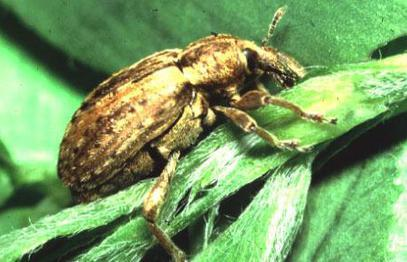weevils: (22, 0, 356, 262)
